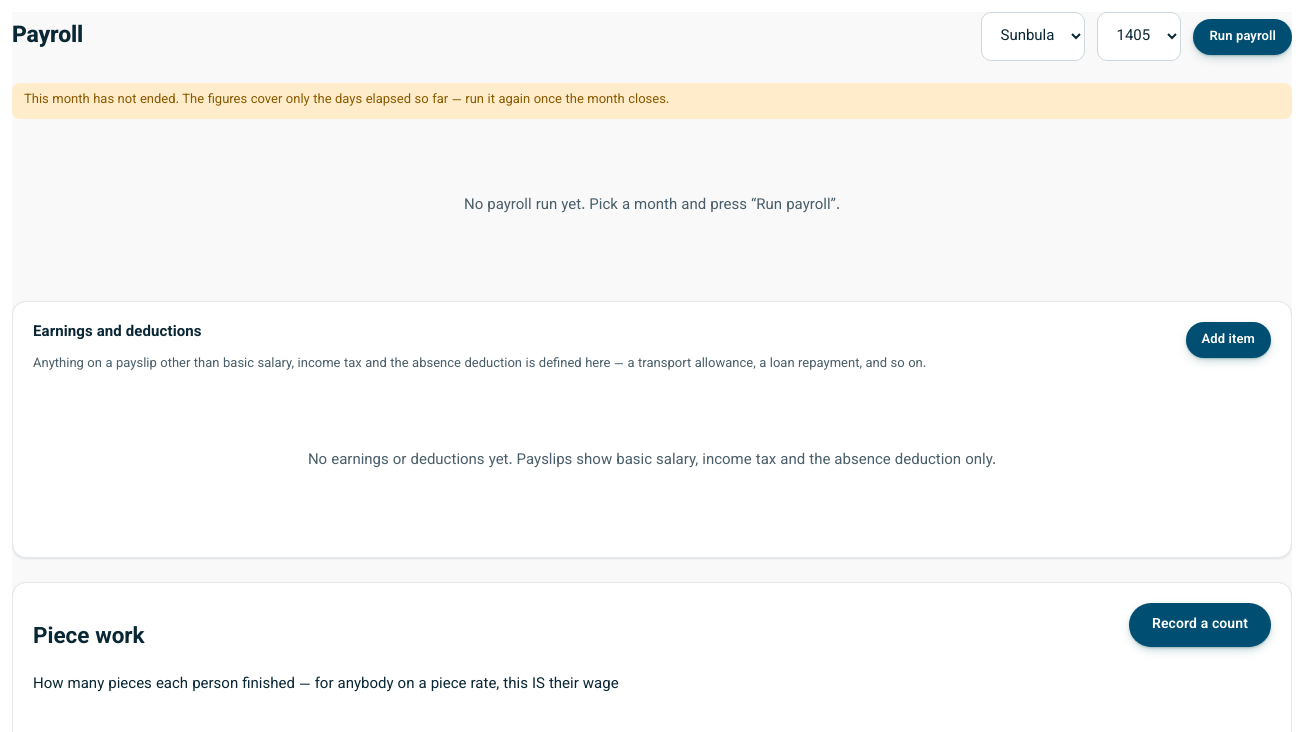
Test: payroll runs › says nothing when everyone was paid
This screenshot has width=1304, height=732.
Step 1. Click the button "Run payroll" → coordinates (1243, 36), box [1194,18,1292,54]
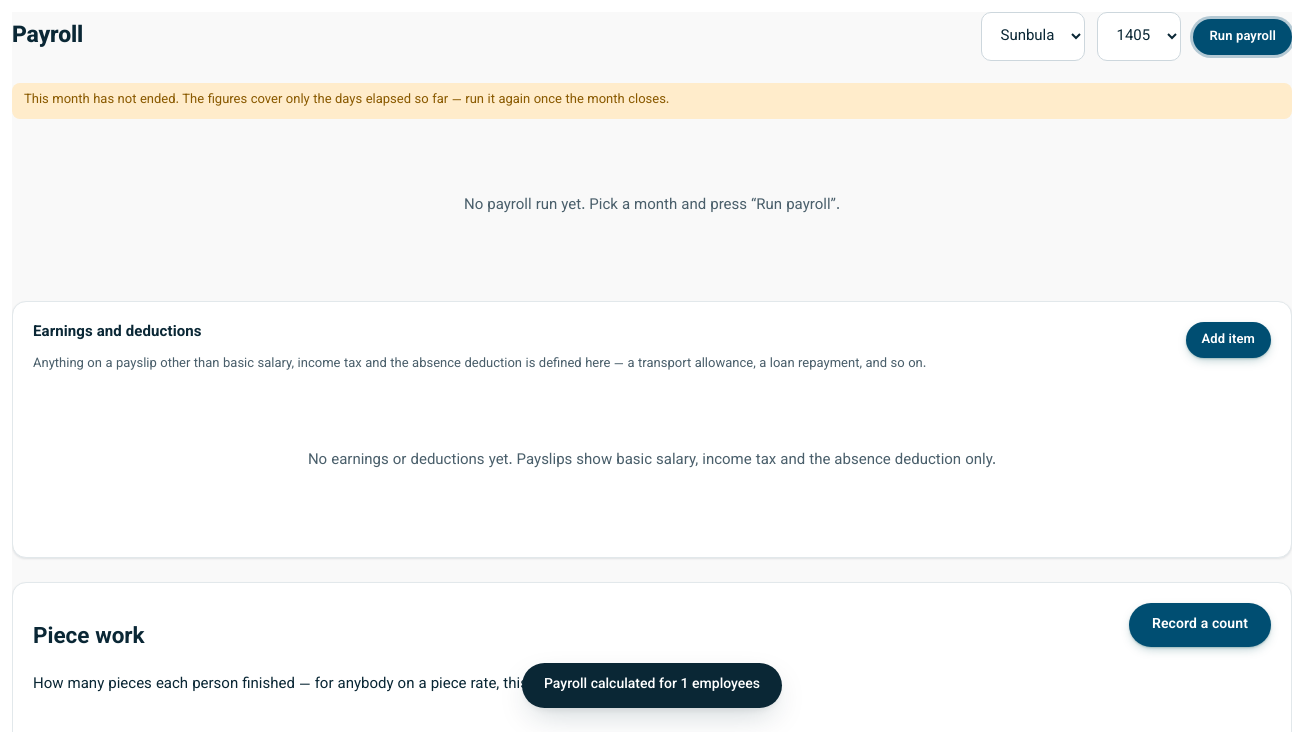
Expected: the text "Payroll calculated for 1 employees" is shown, [522,663,782,708]
